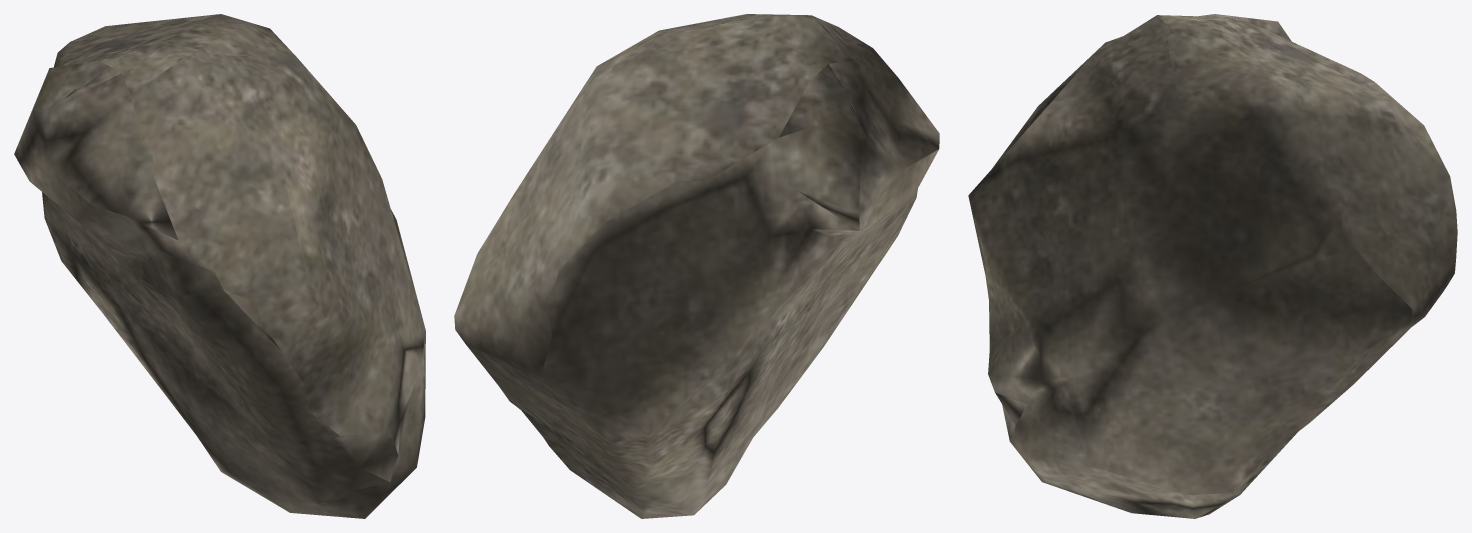
The model's file is rock_small_3.glb.
The picture shows the model from 3 angles, left to right: view 1: azimuth 30°, elevation 25°; view 2: azimuth 150°, elevation 25°; view 3: azimuth 270°, elevation 25°; orthographic projection. The views are drawn at different scales.
Visible parts, largest first — view 1: SM_Small_Rock_3_LOD3; view 2: SM_Small_Rock_3_LOD3; view 3: SM_Small_Rock_3_LOD3.
Boxes of the visible parts, <box> form: SM_Small_Rock_3_LOD3: <box>14,14,425,518</box>; SM_Small_Rock_3_LOD3: <box>454,14,939,518</box>; SM_Small_Rock_3_LOD3: <box>968,14,1457,518</box>.
Size of the model in its own units: 1.14 by 1.49 by 1.5.
1 material, 1 textured.
